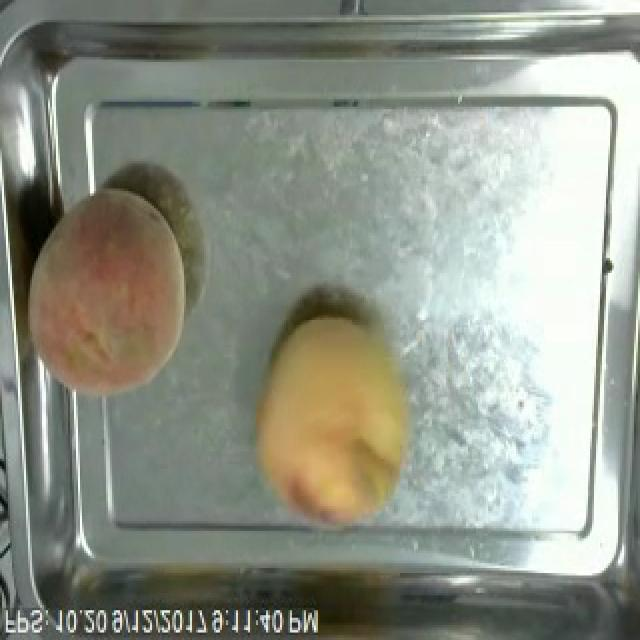Fruit: (14, 179, 196, 409), (244, 308, 422, 536)
